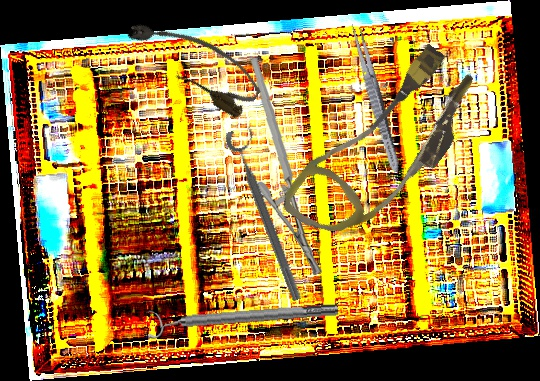Cannula: (277, 27, 492, 267), (120, 0, 269, 123)
Dressing Forceps: (347, 21, 404, 175)
Fixation Ring: (223, 123, 316, 304), (146, 295, 339, 340)
Needle Holder: (240, 58, 333, 275)
